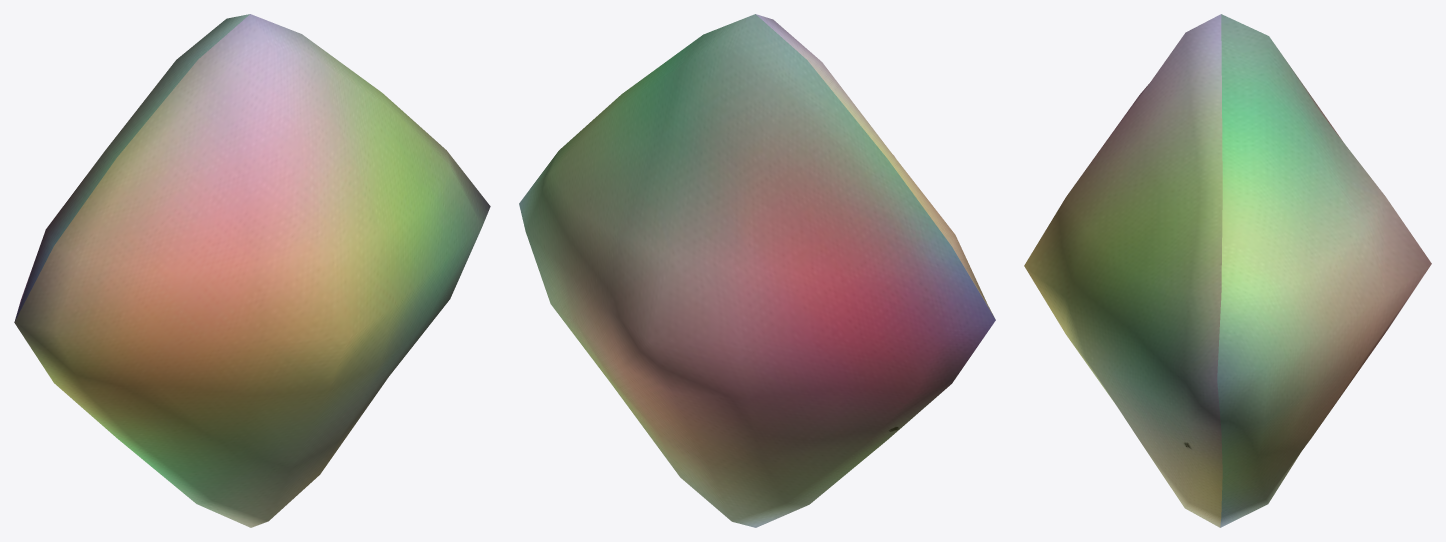
File: diamond_stone.fbx
The picture shows the model from 3 angles, left to right: view 1: azimuth 30°, elevation 25°; view 2: azimuth 150°, elevation 25°; view 3: azimuth 270°, elevation 25°; orthographic projection.
Parts seen in each view (by area): view 1: Roundcube; view 2: Roundcube; view 3: Roundcube.
Boxes of the visible parts, x1,y1,x2,y2 form: Roundcube: (14,14,490,527); Roundcube: (519,14,995,527); Roundcube: (1024,14,1431,527).
Bounding box in the file's own units: 257 × 265 × 191.
1 material, 1 textured.
